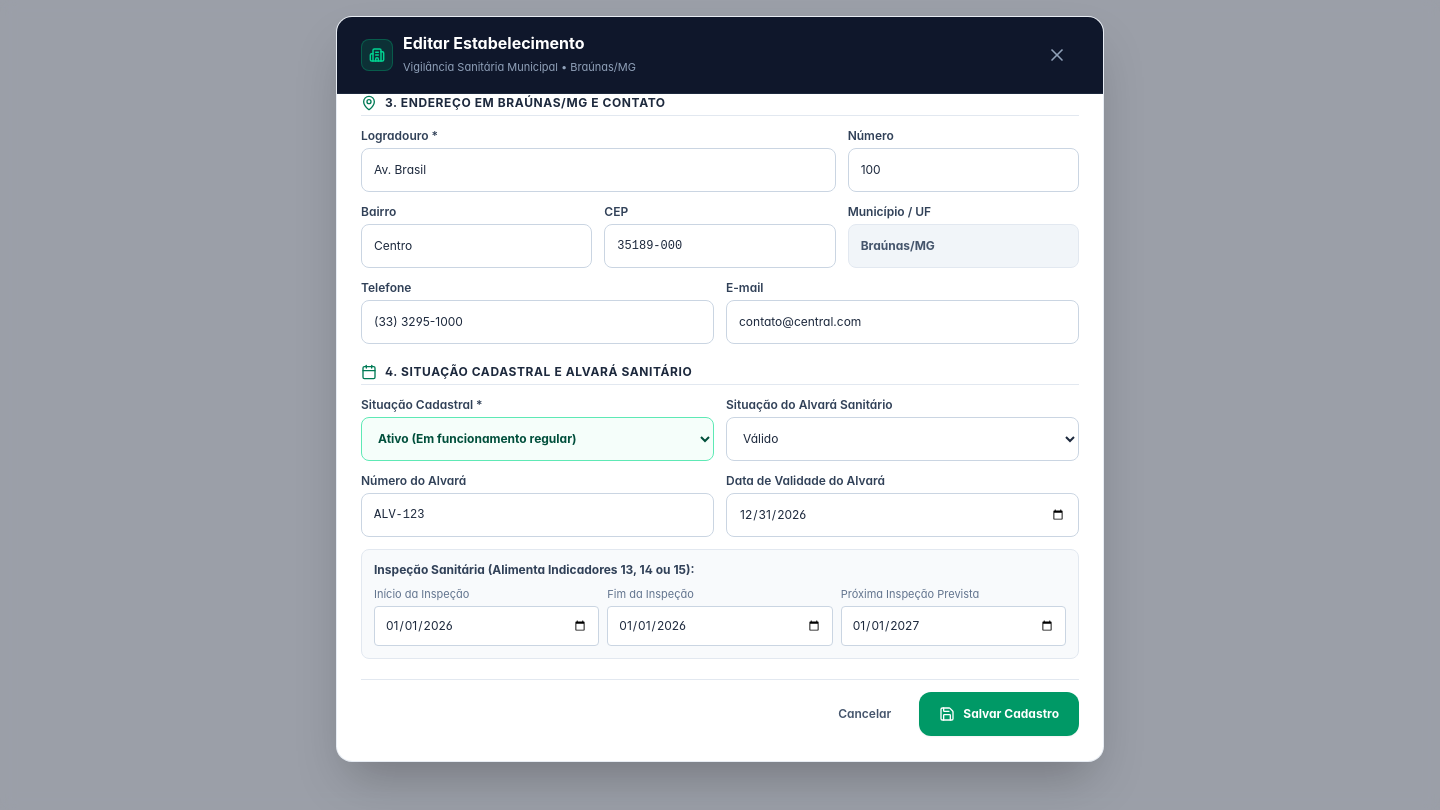
EstabelecimentoModal - Unit Tests › permite selecionar a situacao cadastral "Suspenso" e exibe aviso de interdição sanitaria
(page scrolled)
// Localiza o select de Situação Cadastral
Select "Suspenso (Interditado / Suspensão Sanitária)" in the dropdown labelled "Situação Cadastral *": (538, 439) [361, 417, 714, 461]
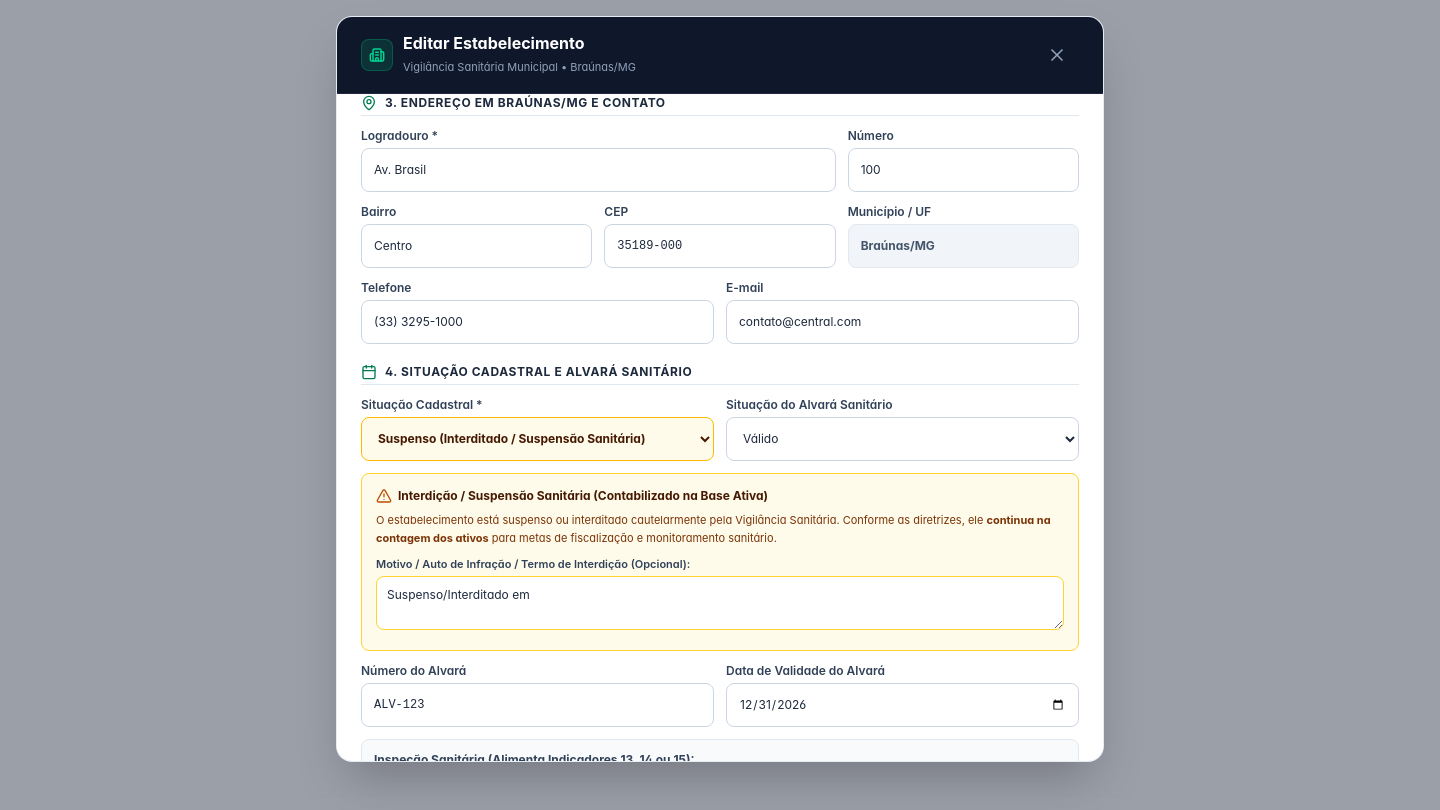
Result: the text "Interdição / Suspensão Sanitária (Contabilizado na Base Ativa)" is shown at [376, 488, 768, 504]
Result: the text "continua na contagem dos ativos" is shown at [376, 513, 1051, 545]
